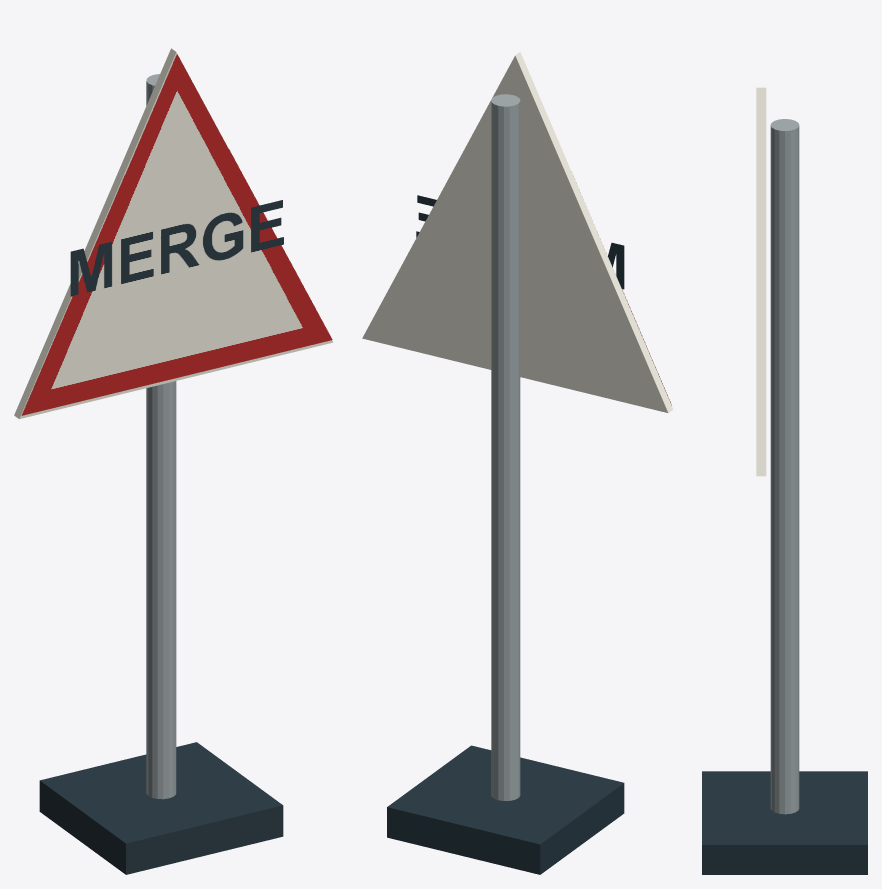
Rendered from scendance-plan-merge.glb.
3 views of the same model, side by side, from view 1: azimuth 30°, elevation 25°; view 2: azimuth 150°, elevation 25°; view 3: azimuth 270°, elevation 25° (orthographic). The views are drawn at different scales.
Bounding box in the file's own units: 0.84 × 2 × 0.4.
4 materials, 1 textured.
